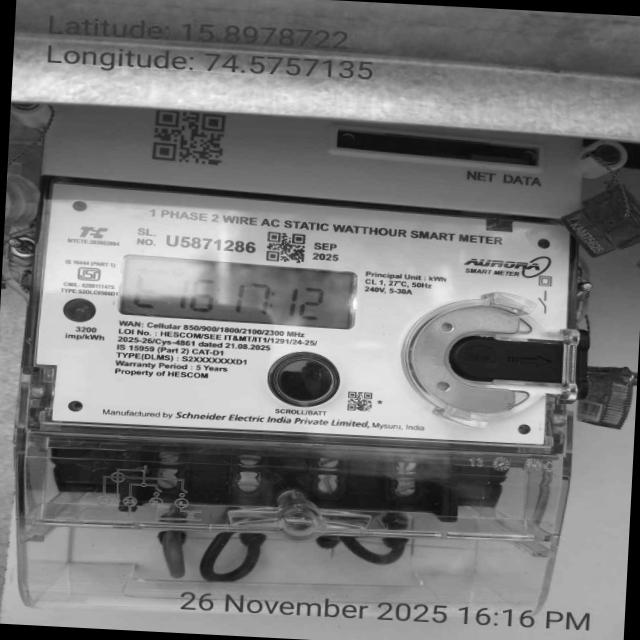meter: (32, 104, 582, 446)
